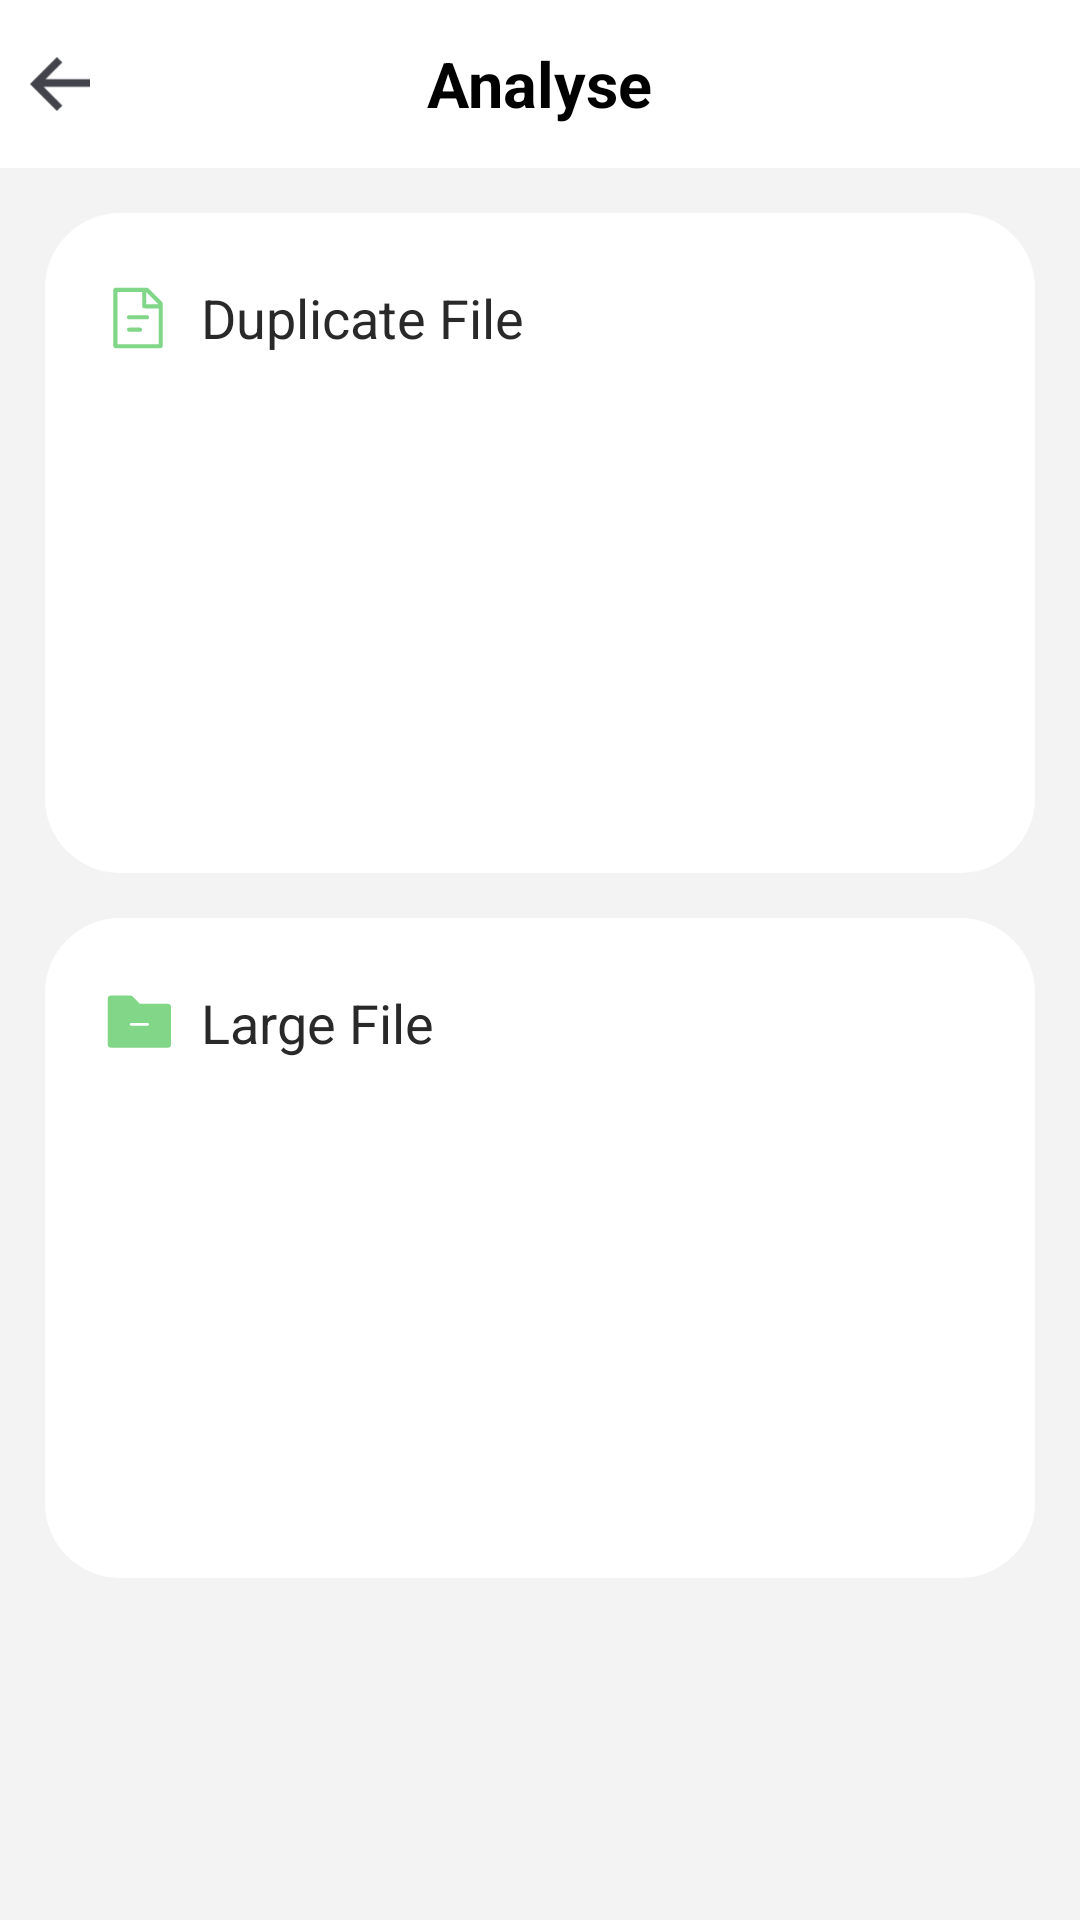

Icons on this 1080px x 1920px Android screen, each with its box as box=[x1, y1, x2, y2]:
back: box=[30, 57, 90, 111]
document: box=[113, 287, 163, 349]
